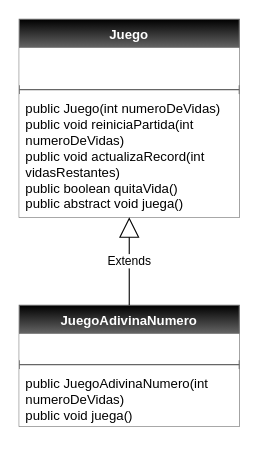
Image size: 259x449. Some labels were removed from this diagram. Each missing label, with the box of its shape:
private int numeroAAdivinar: (19, 333, 239, 360)
protected int numeroDeVidas; protected int record;: (19, 47, 239, 85)
